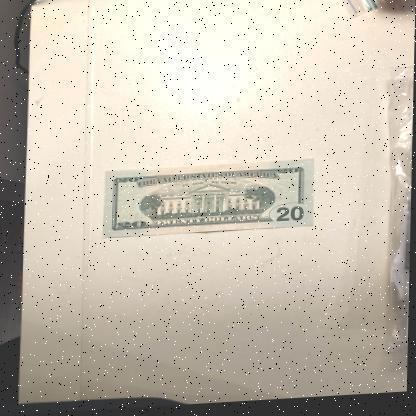twenty-back: (104, 162, 316, 240)
